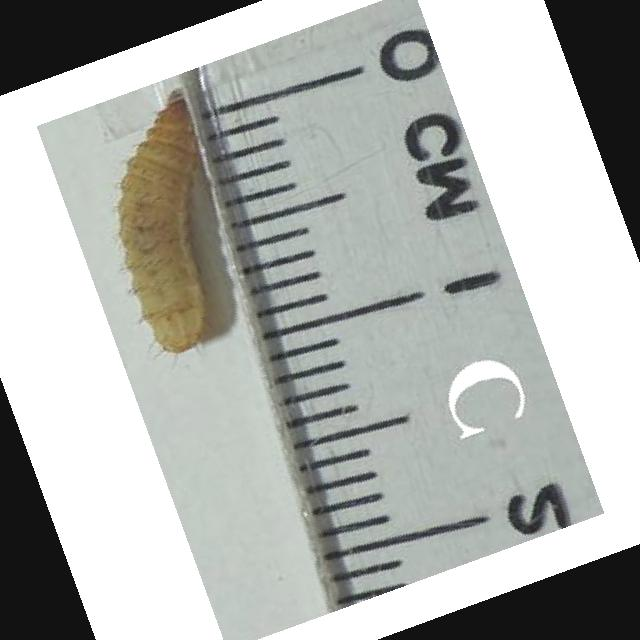Maggot: (121, 85, 213, 355)
